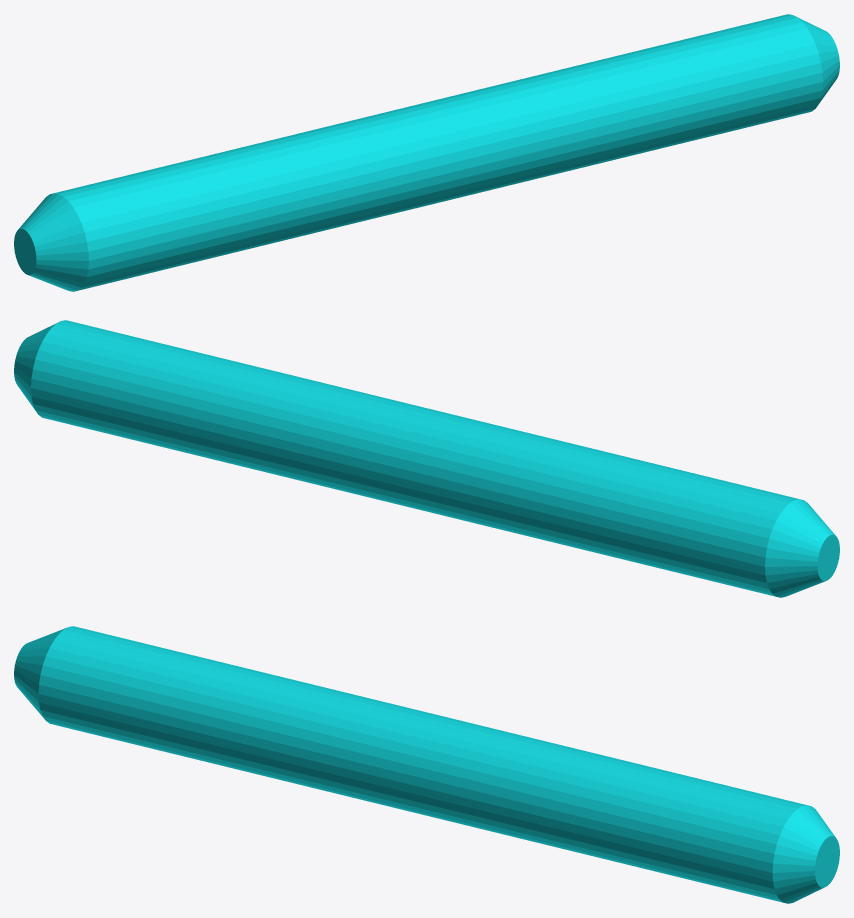
Rendered from Laser.fbx.
The picture shows the model from 3 angles, top to bottom: view 1: azimuth 30°, elevation 25°; view 2: azimuth 150°, elevation 25°; view 3: azimuth 330°, elevation 25°; orthographic projection.
Visible parts, largest first — view 1: Cylinder; view 2: Cylinder; view 3: Cylinder.
Boxes of the visible parts, left/top/right/bottom form: Cylinder: left=14, top=14, right=839, bottom=291; Cylinder: left=14, top=320, right=839, bottom=597; Cylinder: left=14, top=626, right=839, bottom=903.
Bounding box in the file's own units: 367 × 40 × 40.
